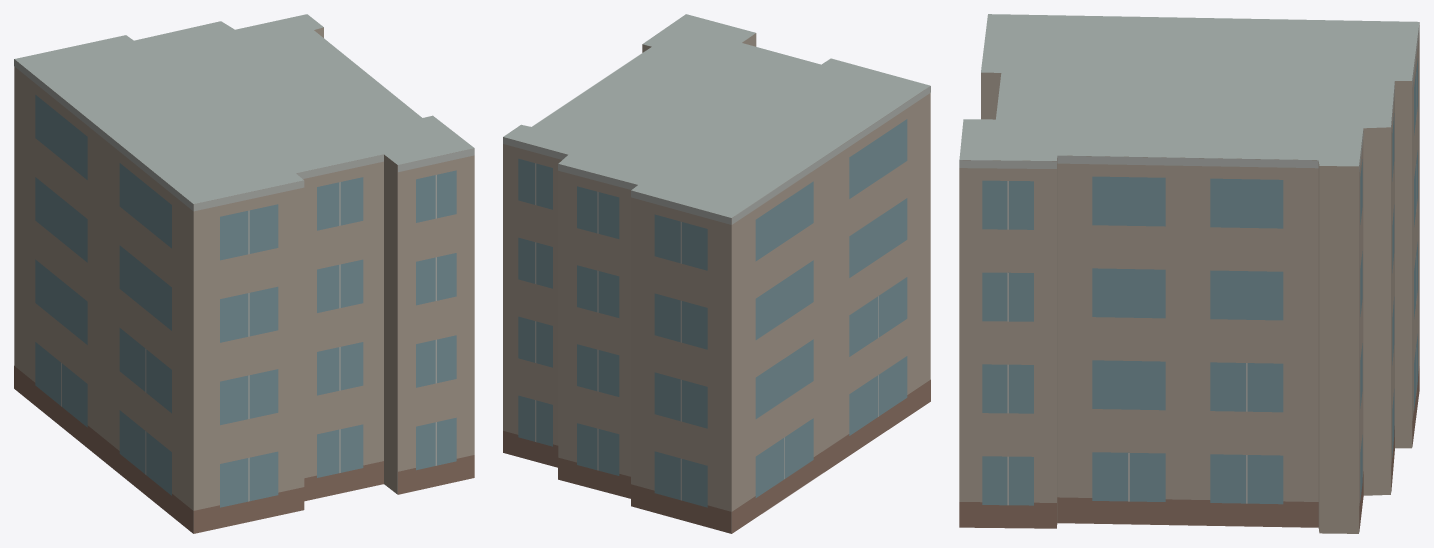
File: survey-upis-32703814.glb
3 views of the same model, side by side, from view 1: azimuth 30°, elevation 25°; view 2: azimuth 150°, elevation 25°; view 3: azimuth 270°, elevation 25° (orthographic). The views are drawn at different scales.
Parts seen in each view (by area): view 1: survey-upis-32703814.tmp; view 2: survey-upis-32703814.tmp; view 3: survey-upis-32703814.tmp.
Boxes of the visible parts, x1=… form: survey-upis-32703814.tmp: x1=14, y1=14, x2=474, y2=533; survey-upis-32703814.tmp: x1=503, y1=14, x2=930, y2=533; survey-upis-32703814.tmp: x1=959, y1=14, x2=1419, y2=533.
Size of the model in its own units: 9.87 by 11.1 by 12.61.
